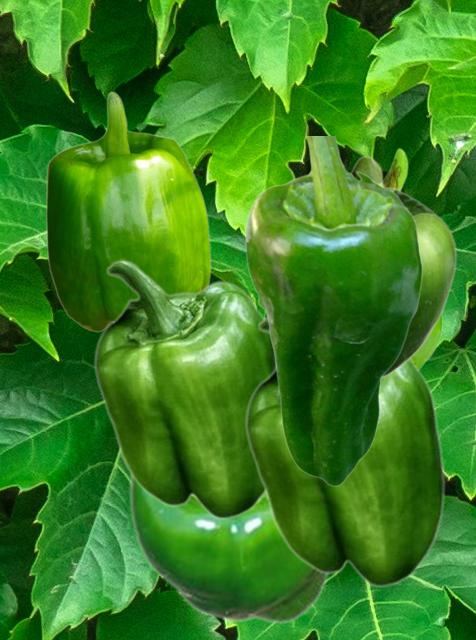bell_pepper: (244, 136, 422, 486), (244, 316, 445, 587), (93, 259, 274, 519), (45, 91, 210, 332), (127, 471, 333, 623), (350, 155, 456, 378), (384, 147, 442, 368)
